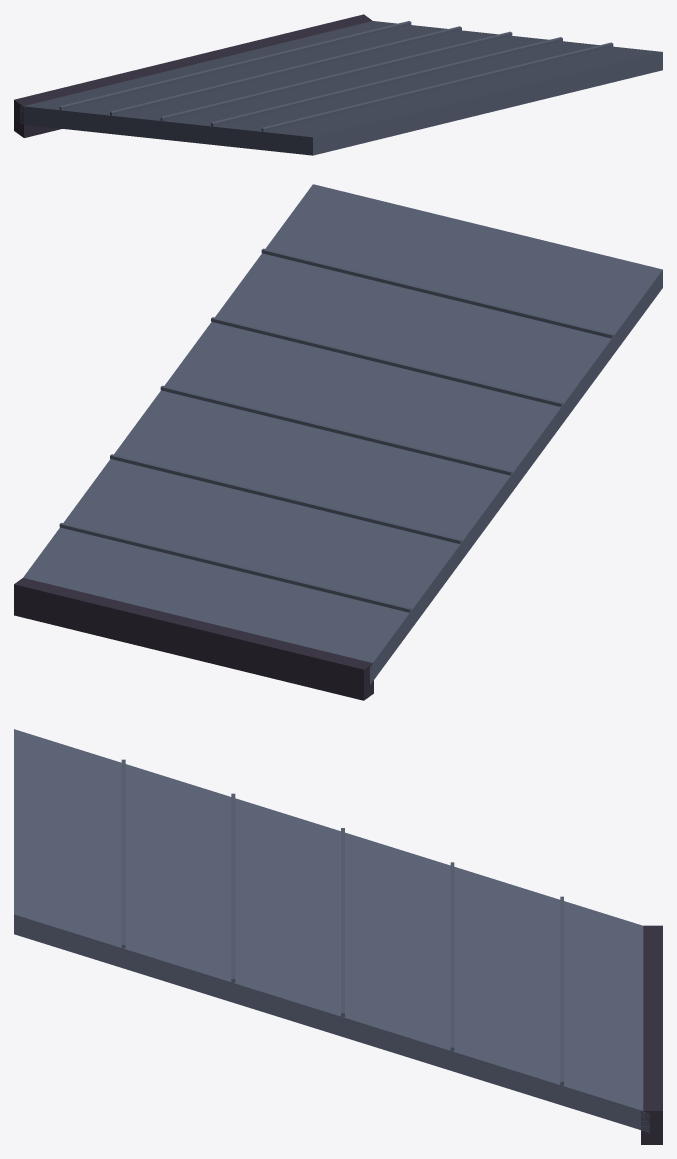
File: SM_Cafe_RoofSlope_2m.fbx
The picture shows the model from 3 angles, top to bottom: view 1: azimuth 30°, elevation 25°; view 2: azimuth 150°, elevation 25°; view 3: azimuth 270°, elevation 25°; orthographic projection. The views are drawn at different scales.
Parts seen in each view (by area): view 1: SM_Cafe_RoofSlope_2m; view 2: SM_Cafe_RoofSlope_2m; view 3: SM_Cafe_RoofSlope_2m.
Part boxes in pixels (x1,y1,x2,y2): SM_Cafe_RoofSlope_2m: [14, 14, 662, 155]; SM_Cafe_RoofSlope_2m: [14, 184, 662, 700]; SM_Cafe_RoofSlope_2m: [14, 729, 662, 1144].
Size of the model in its own units: 2 by 2.96 by 1.16.
